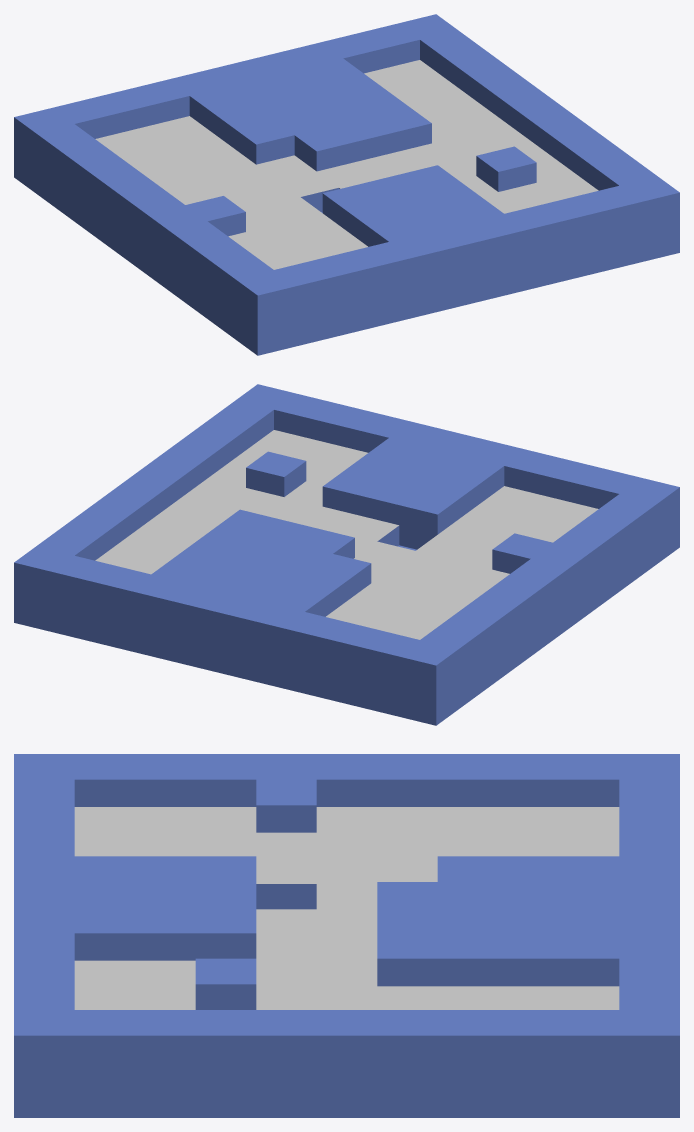
File: 014_platform.fbx
The picture shows the model from 3 angles, top to bottom: view 1: azimuth 30°, elevation 25°; view 2: azimuth 150°, elevation 25°; view 3: azimuth 270°, elevation 25°; orthographic projection. The views are drawn at different scales.
Parts seen in each view (by area): view 1: Cube; view 2: Cube; view 3: Cube.
Boxes of the visible parts, <box> form: Cube: <box>14,14,679,355</box>; Cube: <box>14,384,679,725</box>; Cube: <box>14,754,679,1117</box>.
Bounding box in the file's own units: 1100 × 150 × 1100.
